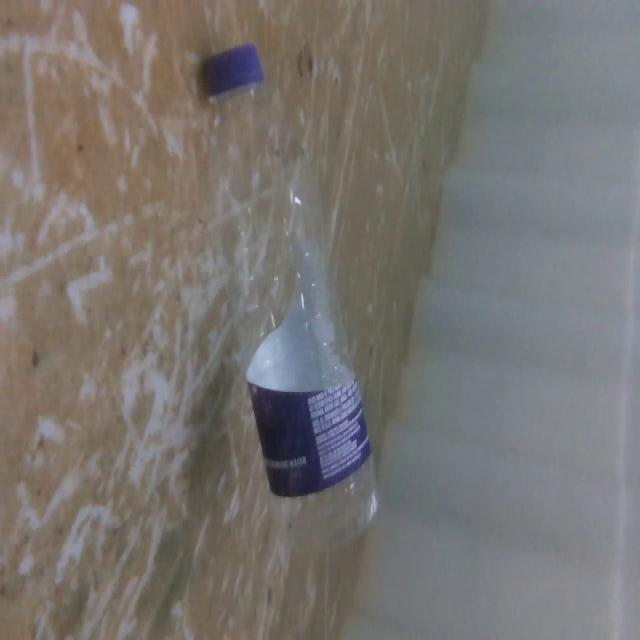plastic bottle: (188, 41, 388, 549)
